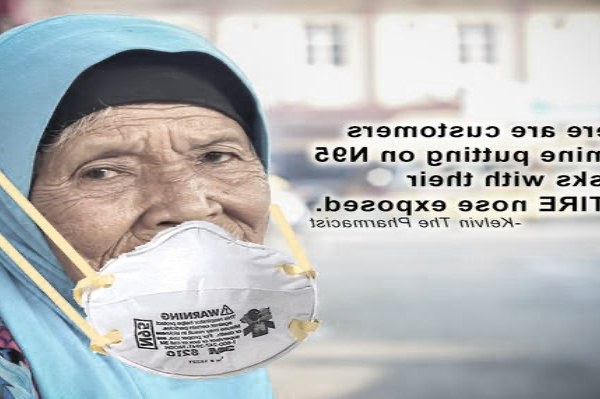mask_weared_incorrect: (40, 128, 273, 307)
